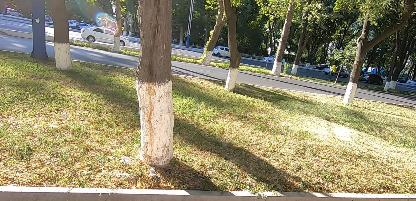car: (79, 25, 134, 52)
tree: (340, 2, 416, 110), (130, 0, 179, 165), (45, 0, 78, 75), (220, 0, 244, 97), (270, 1, 298, 78)
